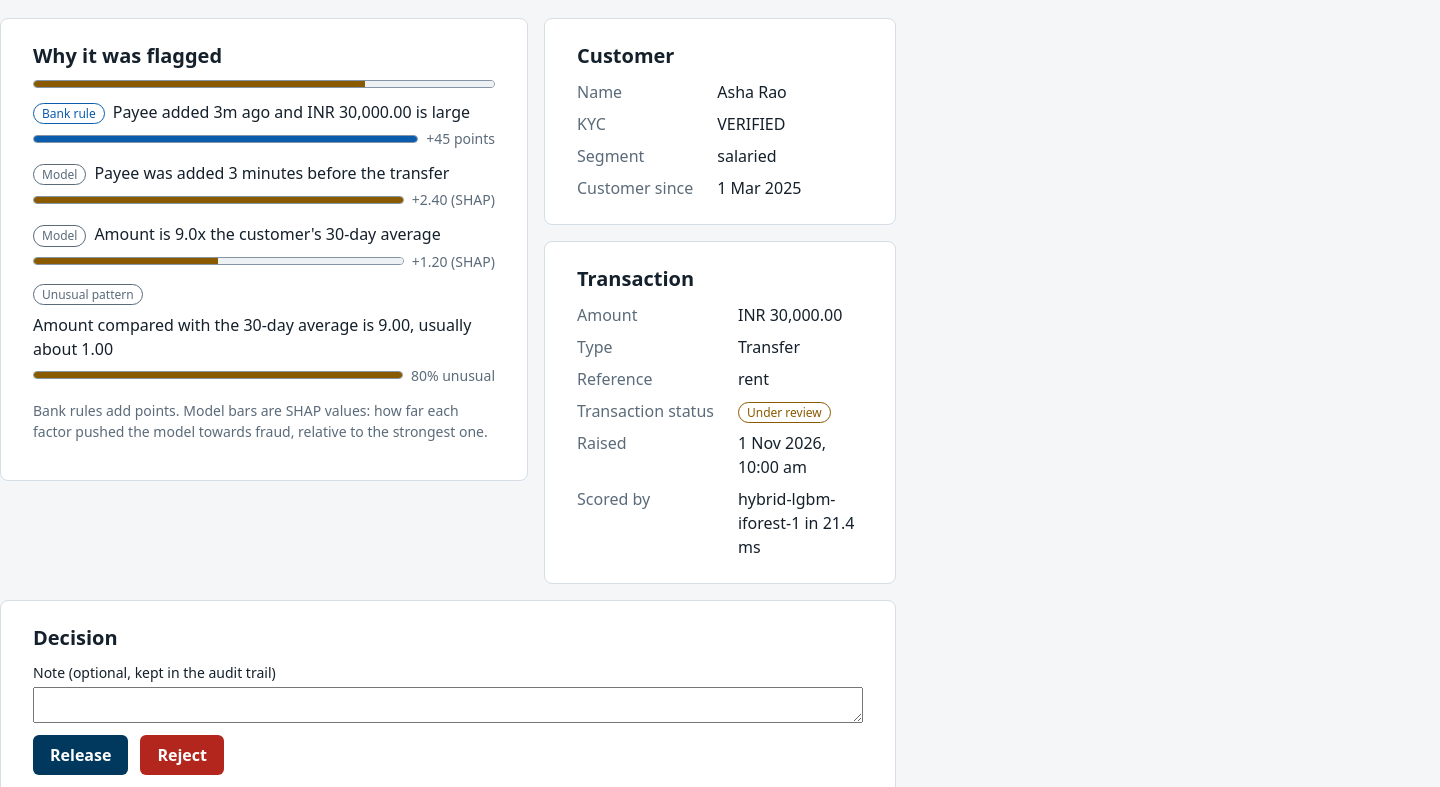
Test: FraudAlert › Release asks for confirmation and posts the decision with the note
(page scrolled)
In the text box labelled "Note (optional, kept in the audit trail)": (448, 705) [33,687,863,723], type "called the customer"
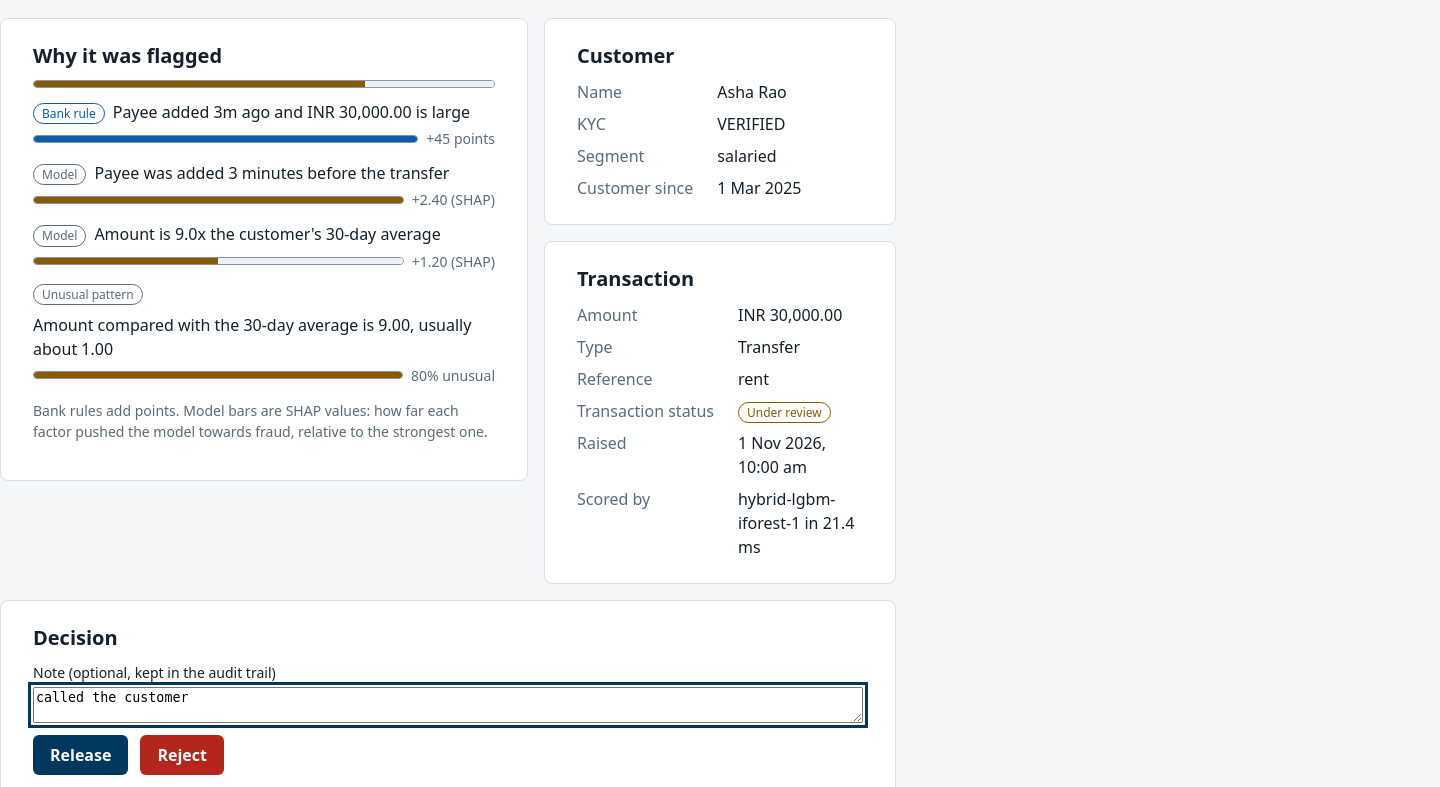
Click the button "Release": (81, 755) [33,735,128,775]
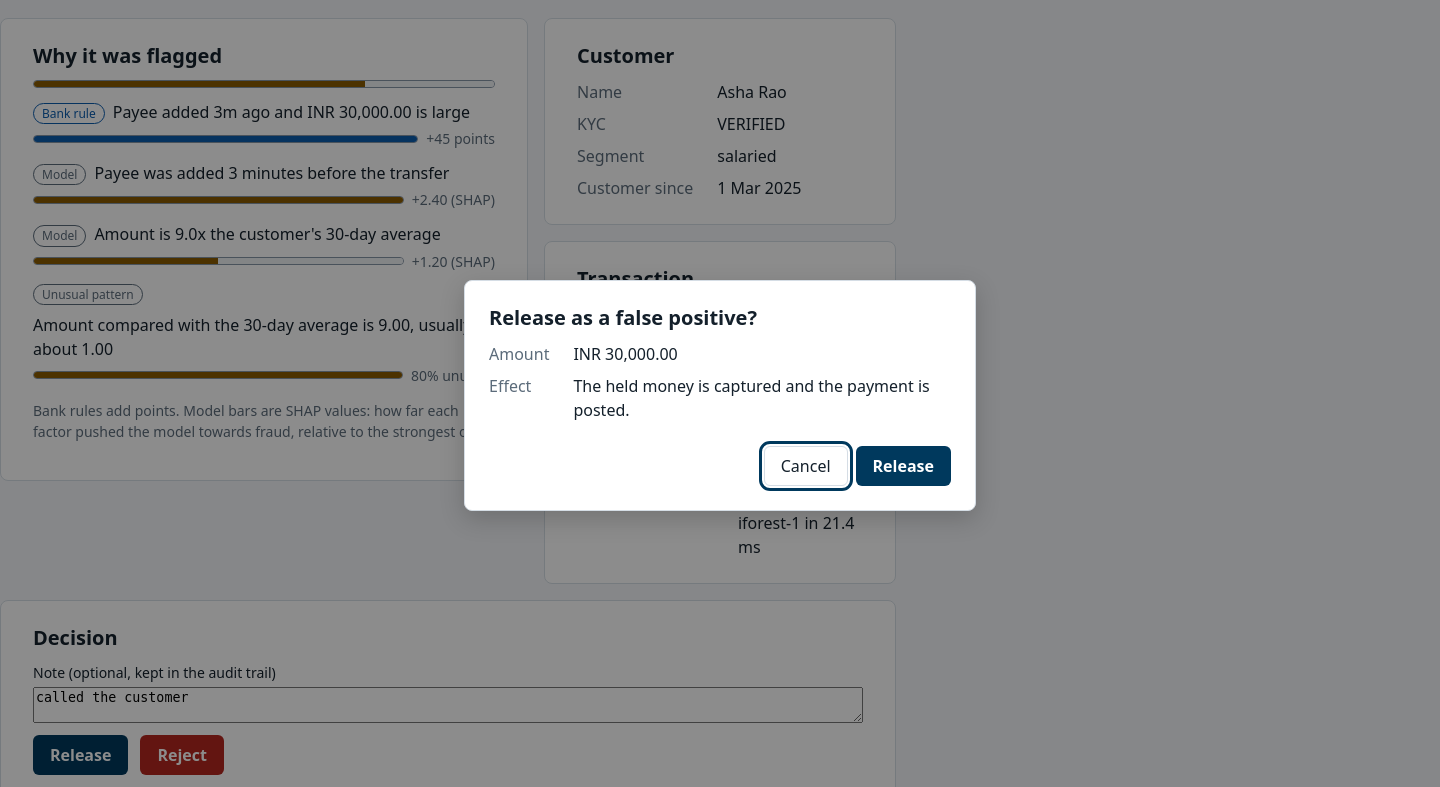
Click the button "Release": (903, 466) [856,446,951,486]
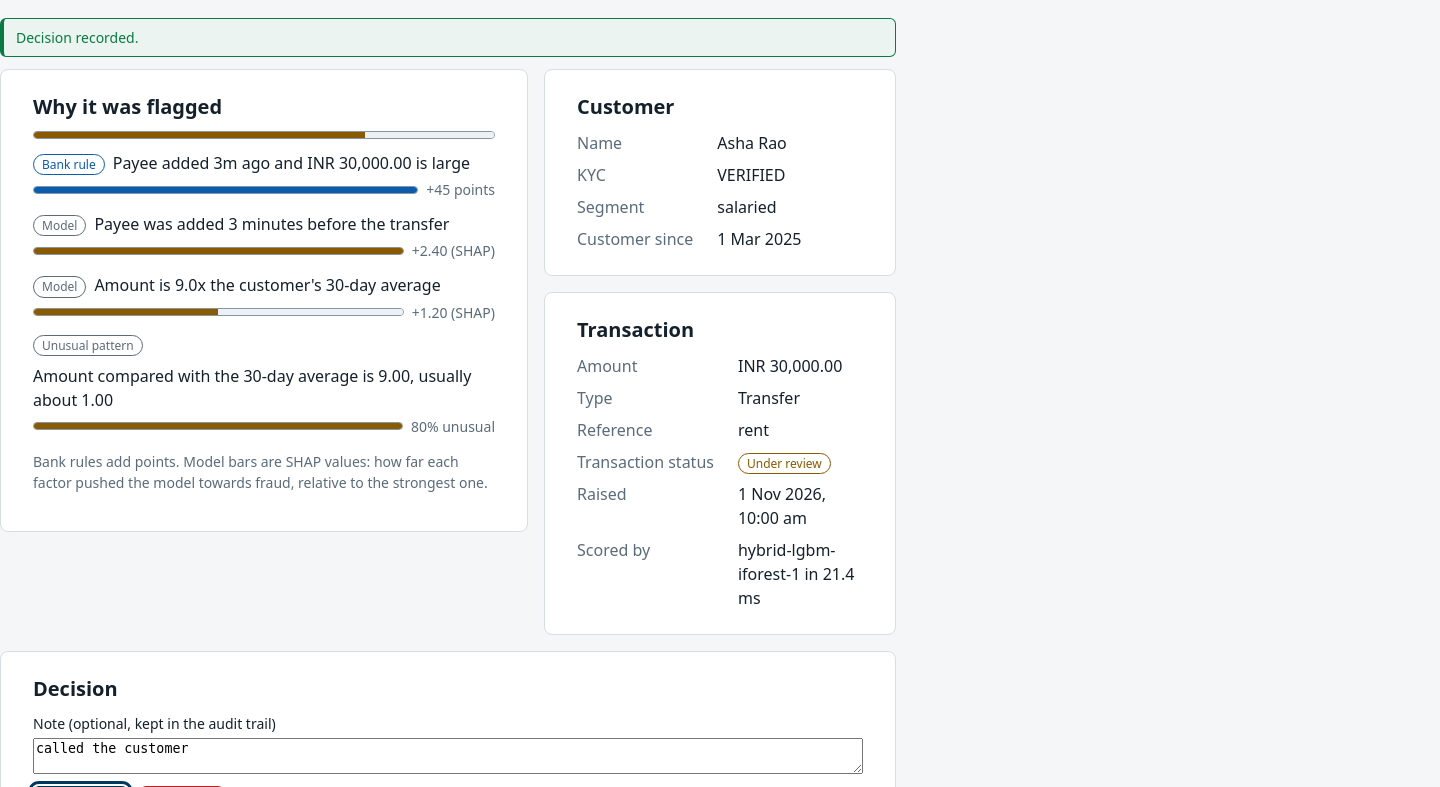
Check: the text "Decision recorded." is shown, box [0,18,896,57]
